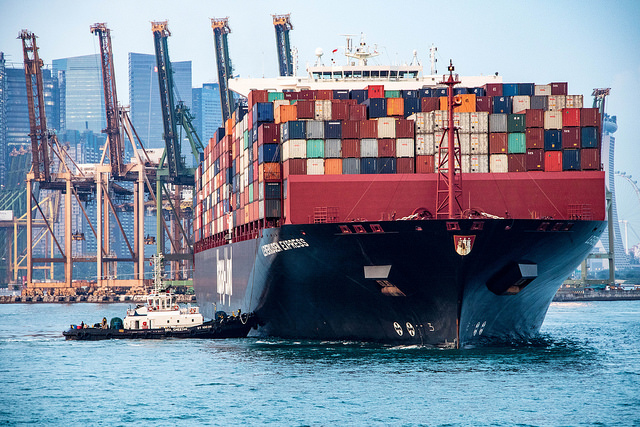container_ship: (196, 41, 610, 355)
tug_boat: (59, 256, 250, 342)
